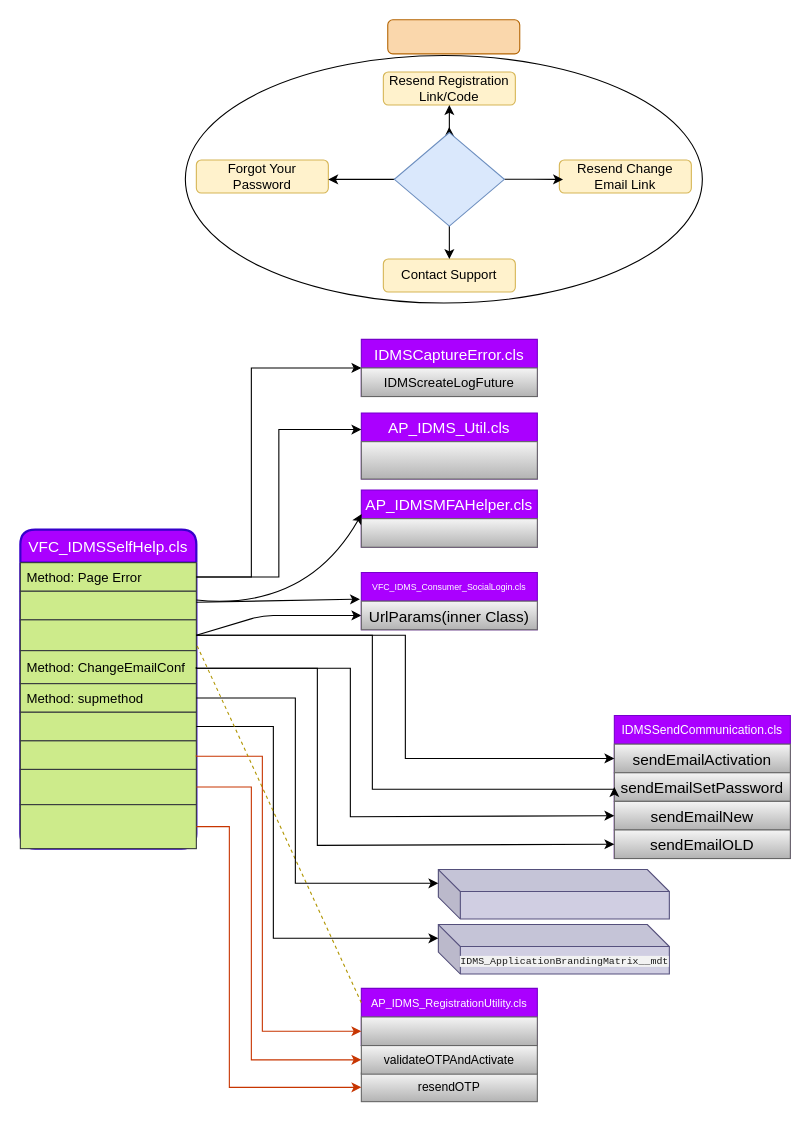
The diagram is 810 pixels wide and 1123 high, and some of its shapes have lost their labels. The shapes that lost their labels are listed below. From the top down, each one's centre as x and y in pixels, then its label:
the point at 453,36: SELF HELP
the point at 448,178: IDMS_ApplicationMapping_mdt
the point at 448,460: checkIDMSMode allowProcessingDuringMaintenance
the point at 448,532: getPageUrl
the point at 107,605: Method: resetPasswordlink
the point at 107,635: Method: registationLink
the point at 107,726: Method: brandCustomization
the point at 107,754: Method: regMobvalidation
the point at 107,786: Method: validateOTP
the point at 107,826: Method: resendOTP
the point at 553,893: Application_Level_Support_Link__mdt
the point at 448,1031: ValidateResendData
